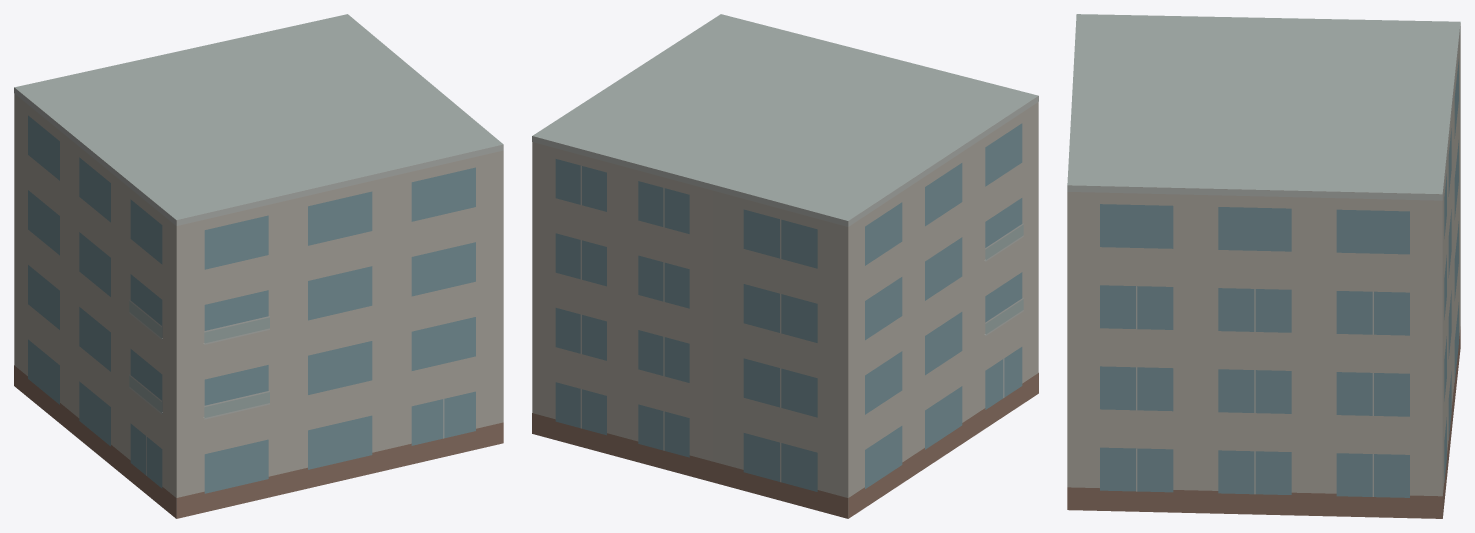
File: residential-6484dbdd-49c4-416f-b76a-e14bdafbdacb.glb
3 renders of one model, left to right at view 1: azimuth 30°, elevation 25°; view 2: azimuth 150°, elevation 25°; view 3: azimuth 270°, elevation 25°, orthographic. The views are drawn at different scales.
Parts seen in each view (by area): view 1: residential-6484dbdd-49c4-416f-b76a-e14bdafbdacb.tmp; view 2: residential-6484dbdd-49c4-416f-b76a-e14bdafbdacb.tmp; view 3: residential-6484dbdd-49c4-416f-b76a-e14bdafbdacb.tmp.
Part boxes in pixels (box(x1,y1,x2,y2)): residential-6484dbdd-49c4-416f-b76a-e14bdafbdacb.tmp: box(14, 14, 503, 518); residential-6484dbdd-49c4-416f-b76a-e14bdafbdacb.tmp: box(532, 14, 1038, 518); residential-6484dbdd-49c4-416f-b76a-e14bdafbdacb.tmp: box(1067, 14, 1460, 518).
Size of the model in its own units: 14.53 by 12.2 by 13.4.
